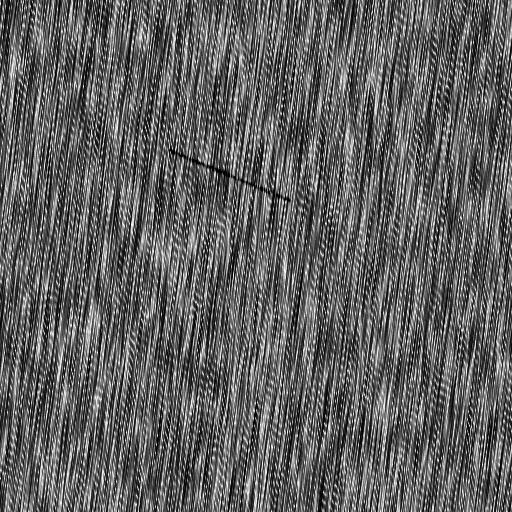DefectTypeC: (169, 146, 292, 202)
